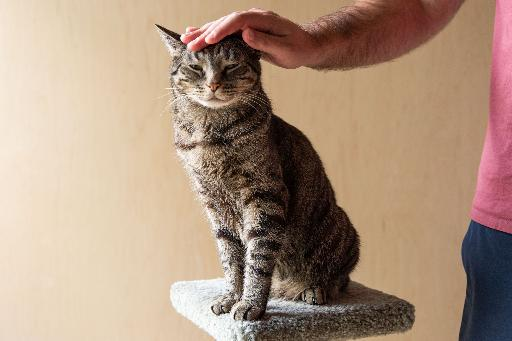cat_sitting: (157, 25, 359, 320)
